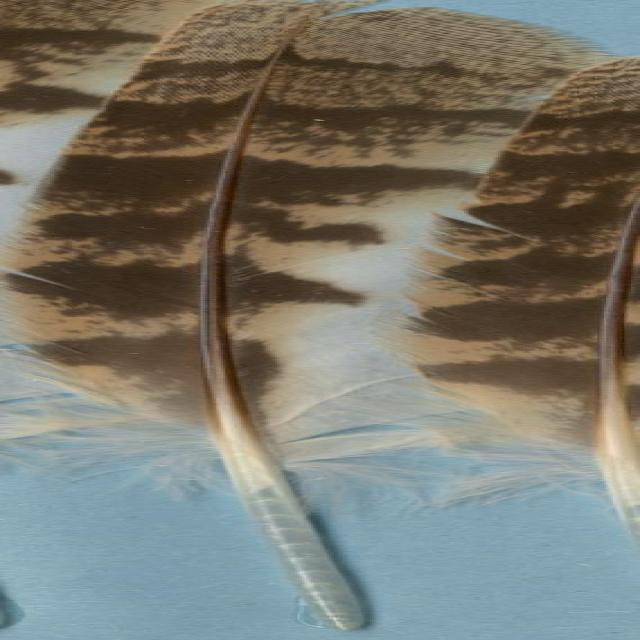feather: (8, 0, 594, 633), (367, 55, 640, 502)
